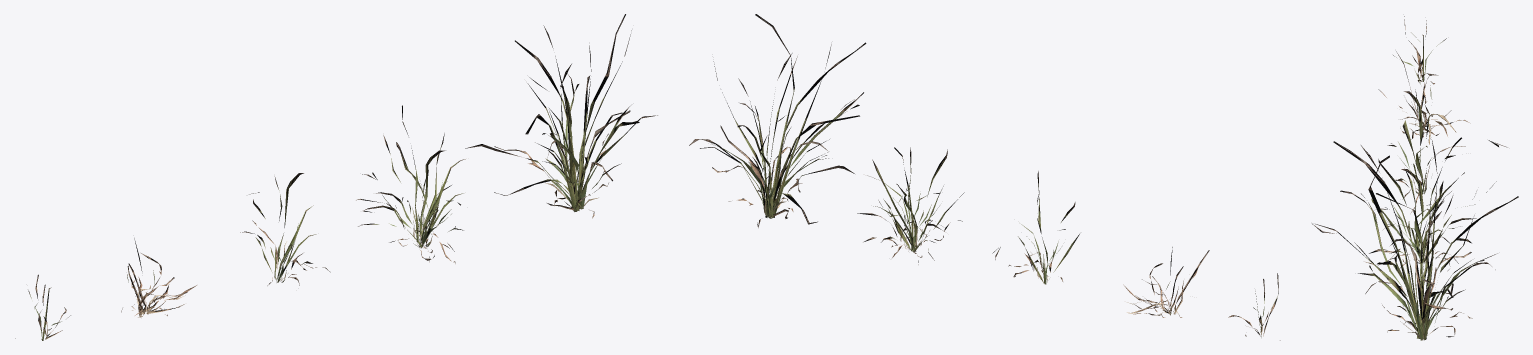
Rendered from grass_tuft_2.glb.
3 views of the same model, side by side, from view 1: azimuth 30°, elevation 25°; view 2: azimuth 150°, elevation 25°; view 3: azimuth 270°, elevation 25° (orthographic). The views are drawn at different scales.
Parts seen in each view (by area): view 1: grass_tuft_2; view 2: grass_tuft_2; view 3: grass_tuft_2.
Part boxes in pixels (<box>): grass_tuft_2: <box>15,14,657,340</box>; grass_tuft_2: <box>689,14,1280,340</box>; grass_tuft_2: <box>1312,16,1518,340</box>.
Bounding box in the file's own units: 1.03 × 0.32 × 0.3027.
Materials: 1 (1 with a texture image).
